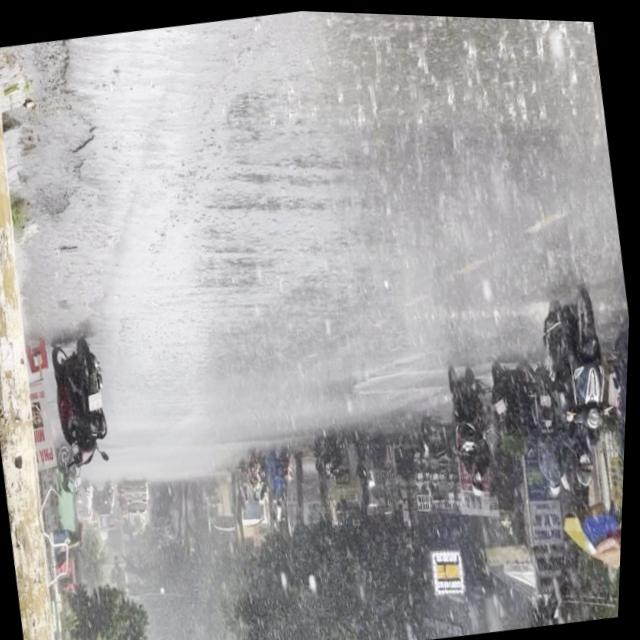helmet: (577, 448, 599, 484)
licenseplate: (525, 282, 629, 491)
